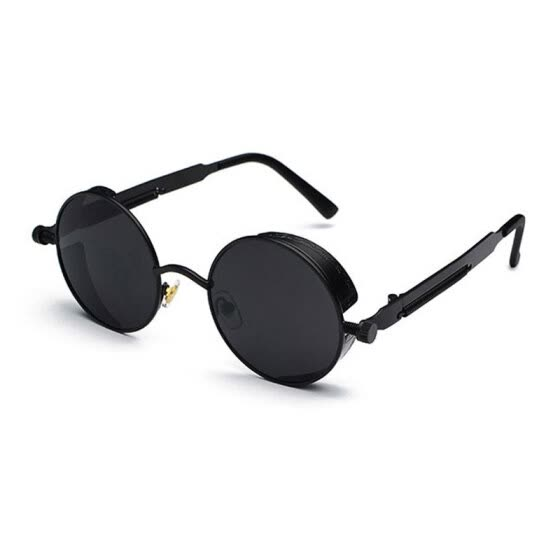sunglasses: (19, 186, 428, 389)
